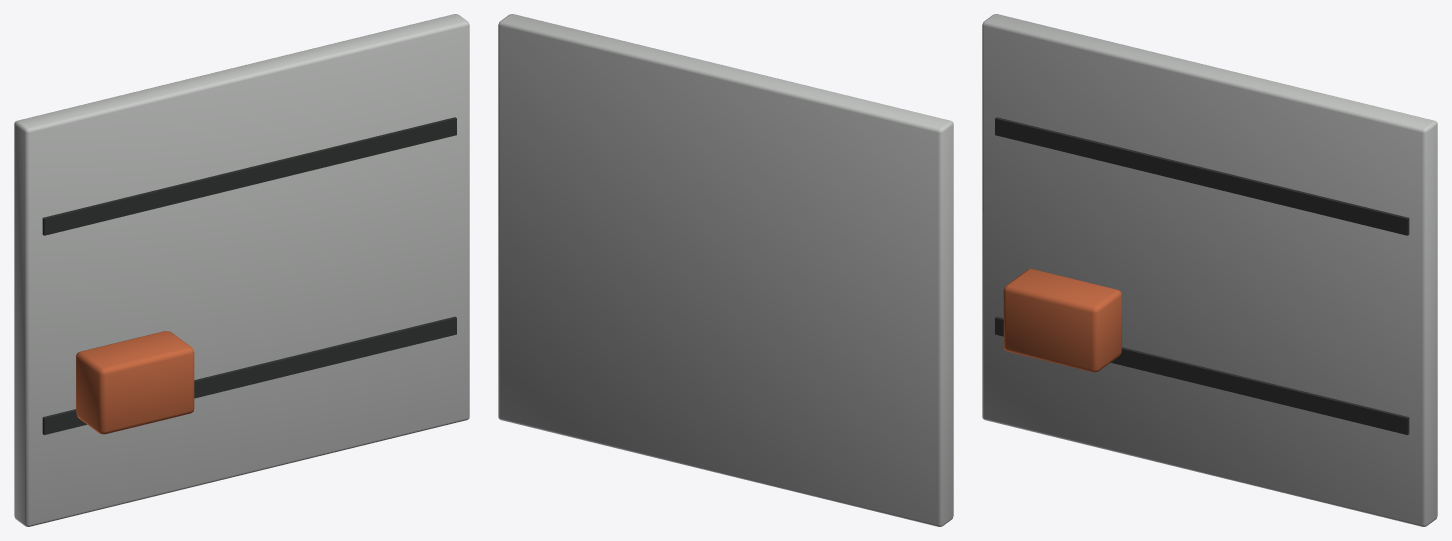
File: desktop_dispensing_robot_y_table.glb
The picture shows the model from 3 angles, left to right: view 1: azimuth 30°, elevation 25°; view 2: azimuth 150°, elevation 25°; view 3: azimuth 330°, elevation 25°; orthographic projection.
Visible parts, largest first — view 1: desktop_dispensing_robot_y_table; view 2: desktop_dispensing_robot_y_table; view 3: desktop_dispensing_robot_y_table.
Part boxes in pixels (x1=…): desktop_dispensing_robot_y_table: x1=14, y1=14, x2=469, y2=526; desktop_dispensing_robot_y_table: x1=498, y1=14, x2=953, y2=526; desktop_dispensing_robot_y_table: x1=982, y1=14, x2=1437, y2=526.
Size of the model in its own units: 0.28 by 0.24 by 0.0445.
